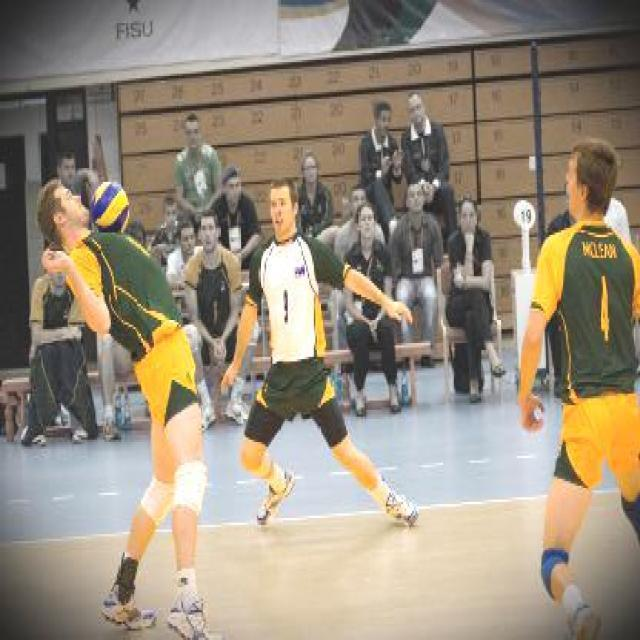volleyball: (91, 181, 130, 234)
